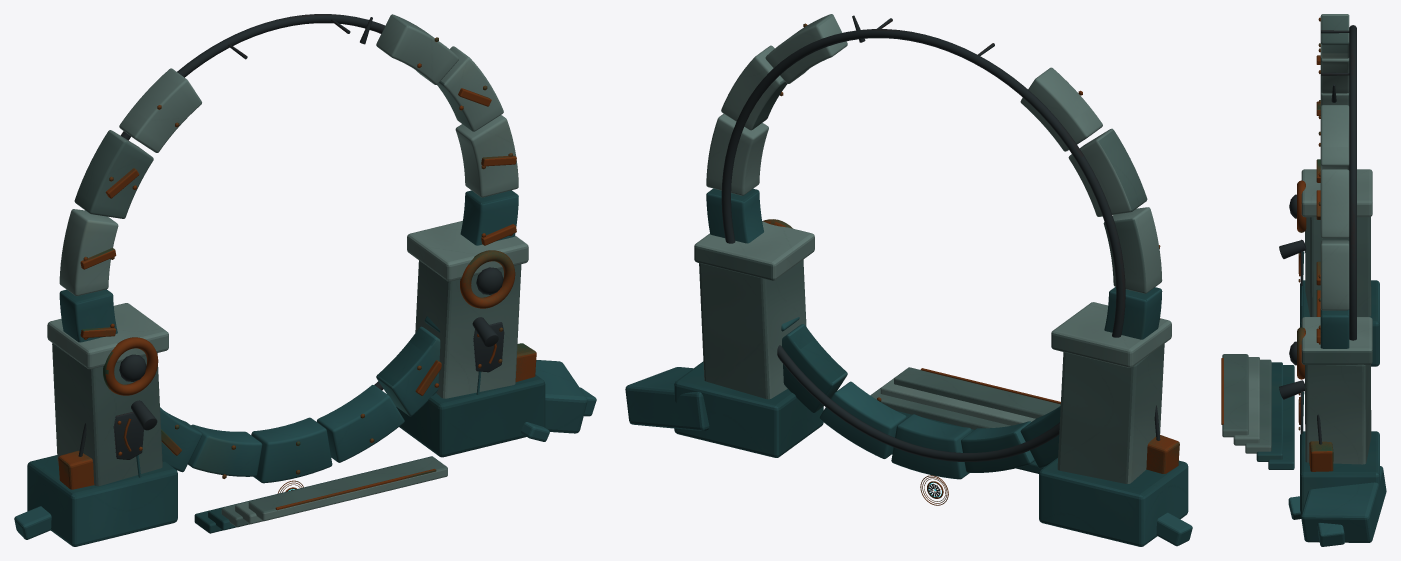
Rendered from orrery_gate.glb.
3 renders of one model, left to right at view 1: azimuth 30°, elevation 25°; view 2: azimuth 150°, elevation 25°; view 3: azimuth 270°, elevation 25°, orthographic. The views are drawn at different scales.
Parts seen in each view (by area): view 1: Gate - Drowned Mineral Stone, Gate - Wet Tide Stone, Gate - Aged Meridian Bronze, Gate - Pressure Black Iron; view 2: Gate - Drowned Mineral Stone, Gate - Wet Tide Stone, Gate - Pressure Black Iron, Gate - Aged Meridian Bronze; view 3: Gate - Drowned Mineral Stone, Gate - Wet Tide Stone, Gate - Pressure Black Iron, Gate - Aged Meridian Bronze.
Part boxes in pixels (x1,y1,x2,y2): Gate - Drowned Mineral Stone: [47, 14, 528, 527]; Gate - Wet Tide Stone: [14, 190, 596, 546]; Gate - Aged Meridian Bronze: [58, 37, 536, 510]; Gate - Pressure Black Iron: [78, 14, 504, 459]; Gate - Drowned Mineral Stone: [694, 14, 1171, 483]; Gate - Wet Tide Stone: [625, 188, 1192, 546]; Gate - Pressure Black Iron: [721, 15, 1160, 461]; Gate - Aged Meridian Bronze: [762, 23, 1179, 473]; Gate - Drowned Mineral Stone: [1222, 14, 1372, 464]; Gate - Wet Tide Stone: [1256, 251, 1386, 546]; Gate - Pressure Black Iron: [1279, 25, 1356, 444]; Gate - Aged Meridian Bronze: [1221, 17, 1333, 471].
Size of the model in its own units: 21.91 by 17.95 by 6.61.
5 materials, 4 textured.
